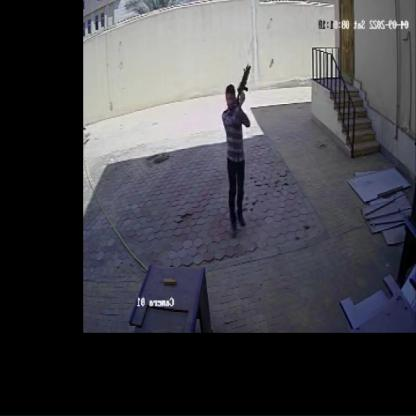handgun: (232, 61, 254, 111)
